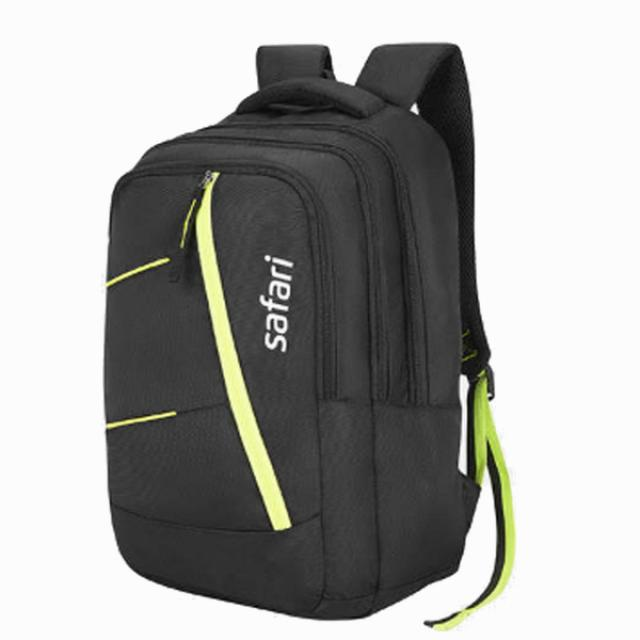backpack: (103, 42, 518, 631)
